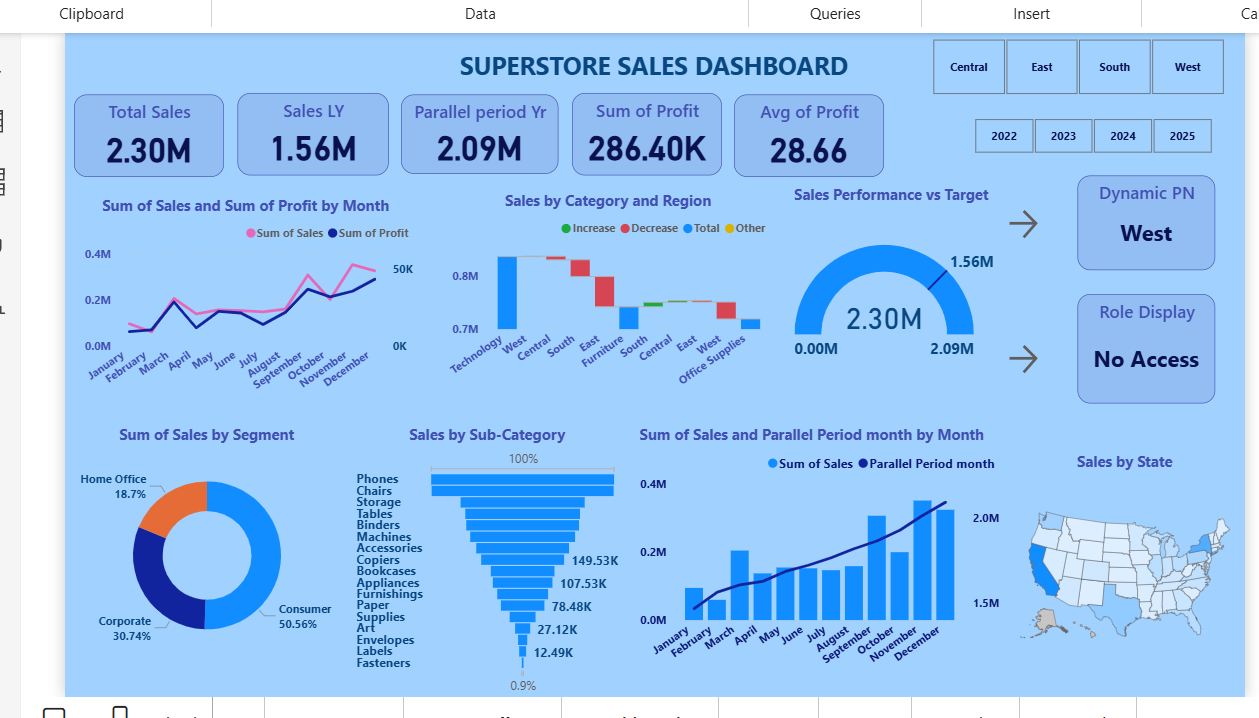

The dashboard page shown, as its layout file describes it:
{"tool":"powerbi","page":{"name":"Dashboard","canvas":[1280,720],"ordinal":10},"visuals":[{"type":"clusteredBarChart","title":"Sales by Category","fields":{"Category":["Orders.Category"],"Y":["Sum(Orders.Sales)"]},"box":[1006.8,458.7,260.2,247.2],"z":0},{"type":"clusteredBarChart","title":"Sales by Sub-Category","fields":{"Y":["Sum(Orders.Sales)"],"Category":["Orders.Sub-Category"]},"box":[723.8,198.4,260.2,247.2],"z":1000},{"type":"clusteredBarChart","title":"Sales by Ship Mode","fields":{"Y":["Sum(Orders.Sales)"],"Category":["Orders.Ship Mode"]},"box":[712.4,455.4,283,249],"z":2000},{"type":"funnel","title":"Sales by Month and Year","fields":{"Y":["Sum(Orders.Sales)"],"Category":["Orders.Sub-Category"]},"box":[325,459.2,372.3,247.6],"z":3000},{"type":"stackedAreaChart","title":"Sales by Month and Year","fields":{"Category":["calendar2.Date.Variation.Date Hierarchy.Month"],"Series":["calendar2.Date.Variation.Date Hierarchy.Year"],"Y":["Sum(Orders.Profit)"]},"box":[319.4,204.1,393.1,241.9],"z":4000},{"type":"donutChart","fields":{"Category":["Orders.Segment"],"Y":["Sum(Orders.Sales)"]},"box":[9.8,204.9,287.9,240.7],"z":6000},{"type":"donutChart","fields":{"Y":["Sum(Orders.Sales)"],"Category":["Orders.Payment Mode"]},"box":[8.1,455.4,287.9,250.5],"z":7000},{"type":"slicer","fields":{"Values":["Orders.Region"]},"box":[902.7,4.9,364.3,61.8],"z":8000},{"type":"slicer","fields":{"Values":["calendar2.Date.Variation.Date Hierarchy.Year"]},"box":[636,0,260.2,71.6],"z":9000},{"type":"card","title":"Total Sales","fields":{"Values":["Sum(Orders.Sales)"]},"box":[9.8,97.6,148,89.5],"z":10000},{"type":"card","title":"Sales LY","fields":{"Values":["Orders.sales LY"]},"box":[177.3,97.6,148,89.5],"z":11000},{"type":"card","title":"MTD","fields":{"Values":["Orders.MTD"]},"box":[343.2,97.6,144.8,87.8],"z":12000},{"type":"card","title":"QTD","fields":{"Values":["Orders.QTD"]},"box":[515.6,97.6,130.1,87.8],"z":13000},{"type":"textbox","box":[9.8,4.9,629.5,71.6],"z":14000},{"type":"card","title":"Parallel period Yr","fields":{"Values":["Orders.parallel period month"]},"box":[816.5,97.6,159.4,83],"z":15000},{"type":"card","title":"YTD","fields":{"Values":["Orders.YTD"]},"box":[673.4,97.6,125.2,87.8],"z":16000},{"type":"map","fields":{"Category":["Orders.State"]},"box":[995.4,91.1,271.6,354.6],"z":16001}]}

Visuals, with their boxes on the page's 1280x720 design canvas (x1, y1, x2, y2). These are canvas units, not pixel positions in the 1259x718 screenshot, which may show the page scaled, cropped or inside an application window:
"Sales by Category" clusteredBarChart: bbox=[1007, 459, 1267, 706]
"Sales by Sub-Category" clusteredBarChart: bbox=[724, 198, 984, 446]
"Sales by Ship Mode" clusteredBarChart: bbox=[712, 455, 995, 704]
"Sales by Month and Year" funnel: bbox=[325, 459, 697, 707]
"Sales by Month and Year" stackedAreaChart: bbox=[319, 204, 712, 446]
donutChart - Orders.Segment x Sum(Orders.Sales): bbox=[10, 205, 298, 446]
donutChart - Sum(Orders.Sales) x Orders.Payment Mode: bbox=[8, 455, 296, 706]
slicer - Orders.Region: bbox=[903, 5, 1267, 67]
slicer - calendar2.Date.Variation.Date Hierarchy.Year: bbox=[636, 0, 896, 72]
"Total Sales" card: bbox=[10, 98, 158, 187]
"Sales LY" card: bbox=[177, 98, 325, 187]
"MTD" card: bbox=[343, 98, 488, 185]
"QTD" card: bbox=[516, 98, 646, 185]
textbox: bbox=[10, 5, 639, 76]
"Parallel period Yr" card: bbox=[816, 98, 976, 181]
"YTD" card: bbox=[673, 98, 799, 185]
map - Orders.State: bbox=[995, 91, 1267, 446]
